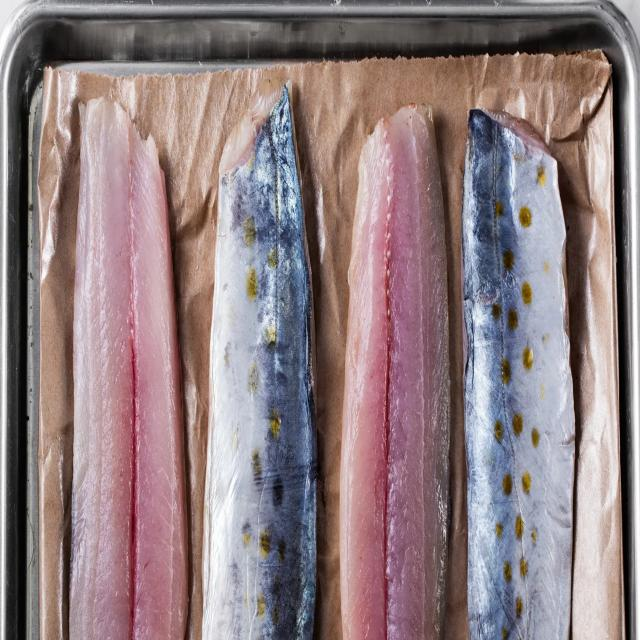Mackerel: (70, 98, 188, 637), (202, 80, 316, 637), (462, 109, 575, 639), (340, 104, 450, 638)
